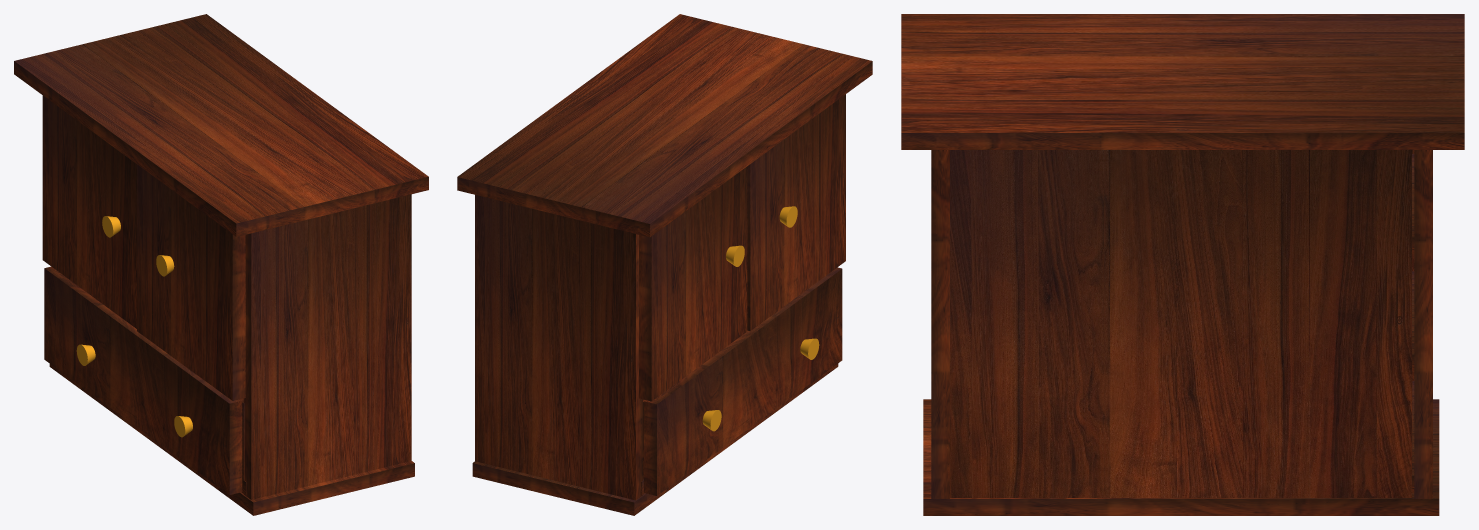
Rendered from cabinet2.FBX.
3 renders of one model, left to right at view 1: azimuth 30°, elevation 25°; view 2: azimuth 150°, elevation 25°; view 3: azimuth 270°, elevation 25°, orthographic. The views are drawn at different scales.
Parts seen in each view (by area): view 1: Box001, Box004, Box010, Box019, Box018, Box002; view 2: Box001, Box003, Box010, Box018, Box019, Box002; view 3: Box005, Box001, Box002, Box003, Box004.
Part boxes in pixels (x1,y1,x2,y2): Box001: [14, 14, 428, 236]; Box004: [243, 194, 411, 499]; Box010: [44, 266, 242, 494]; Box019: [137, 164, 245, 400]; Box018: [42, 95, 136, 328]; Box002: [49, 364, 414, 515]; Box001: [457, 14, 872, 237]; Box003: [475, 195, 643, 500]; Box010: [644, 267, 842, 495]; Box018: [639, 166, 747, 401]; Box019: [747, 94, 845, 331]; Box002: [472, 363, 838, 515]; Box005: [950, 150, 1411, 497]; Box001: [901, 14, 1464, 149]; Box002: [923, 399, 1439, 515]; Box003: [1414, 150, 1432, 498]; Box004: [931, 150, 949, 498].
Size of the model in its own units: 30 by 45.42 by 60.
Materials: 2 (1 with a texture image).
